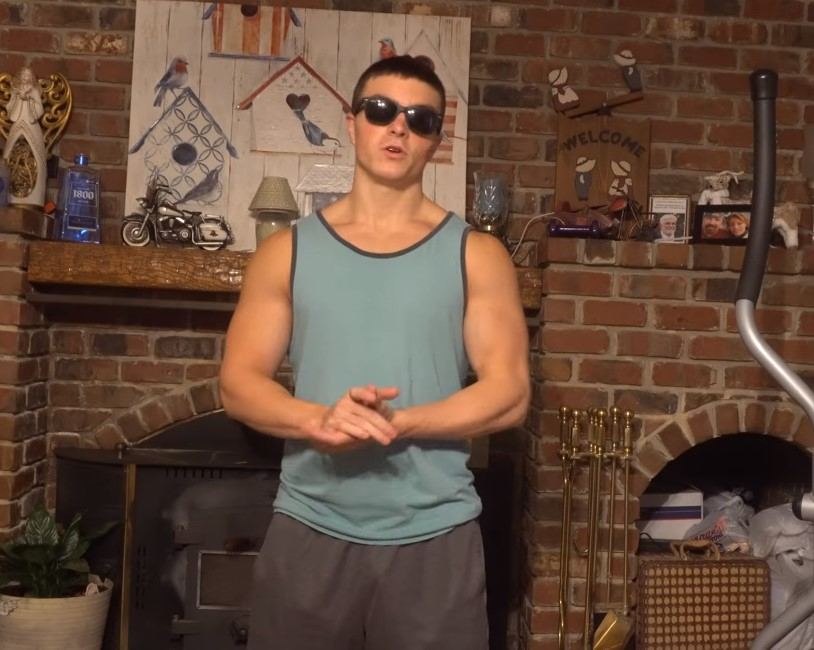face_no_mask: (344, 58, 449, 192)
